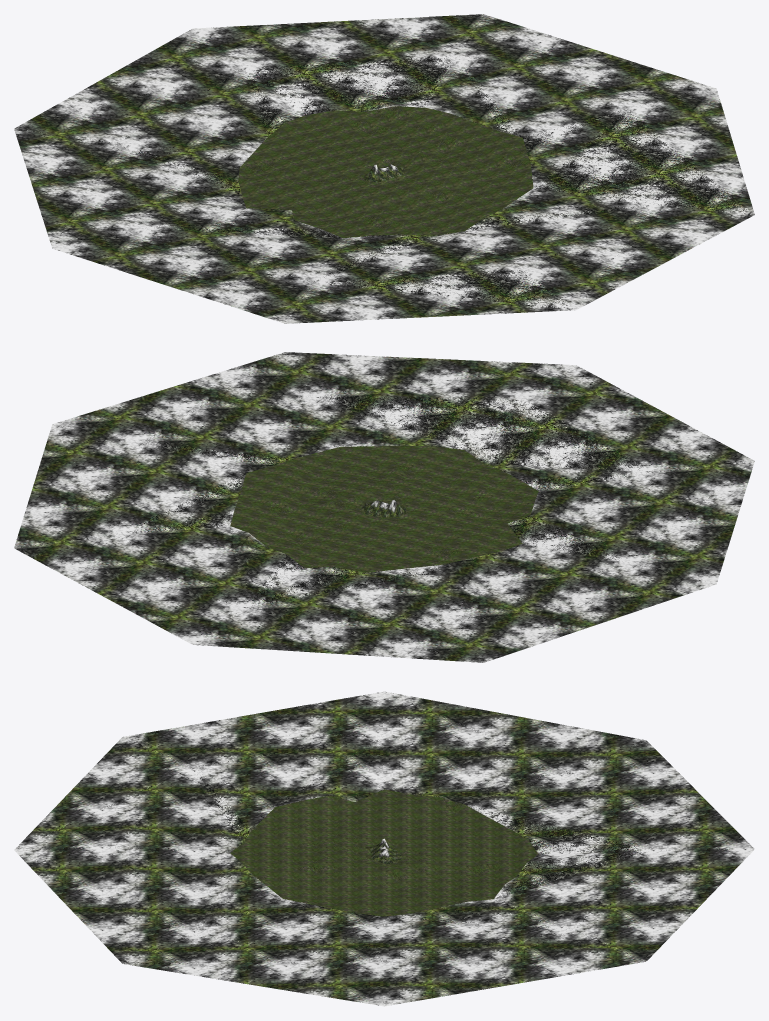
The model's file is ENVO_SnowCappedMountain.obj.
The picture shows the model from 3 angles, top to bottom: view 1: azimuth 30°, elevation 25°; view 2: azimuth 150°, elevation 25°; view 3: azimuth 270°, elevation 25°; orthographic projection. The views are drawn at different scales.
Parts seen in each view (by area): view 1: SnowCappedMountain; view 2: SnowCappedMountain; view 3: SnowCappedMountain.
Boxes of the visible parts, left/top/right/bottom form: SnowCappedMountain: left=14, top=14, right=754, bottom=323; SnowCappedMountain: left=14, top=352, right=754, bottom=662; SnowCappedMountain: left=14, top=691, right=754, bottom=1006.
Size of what is drawn, in the model's own units: 51640 by 1182 by 51640.
Materials: 4 (4 with a texture image).
